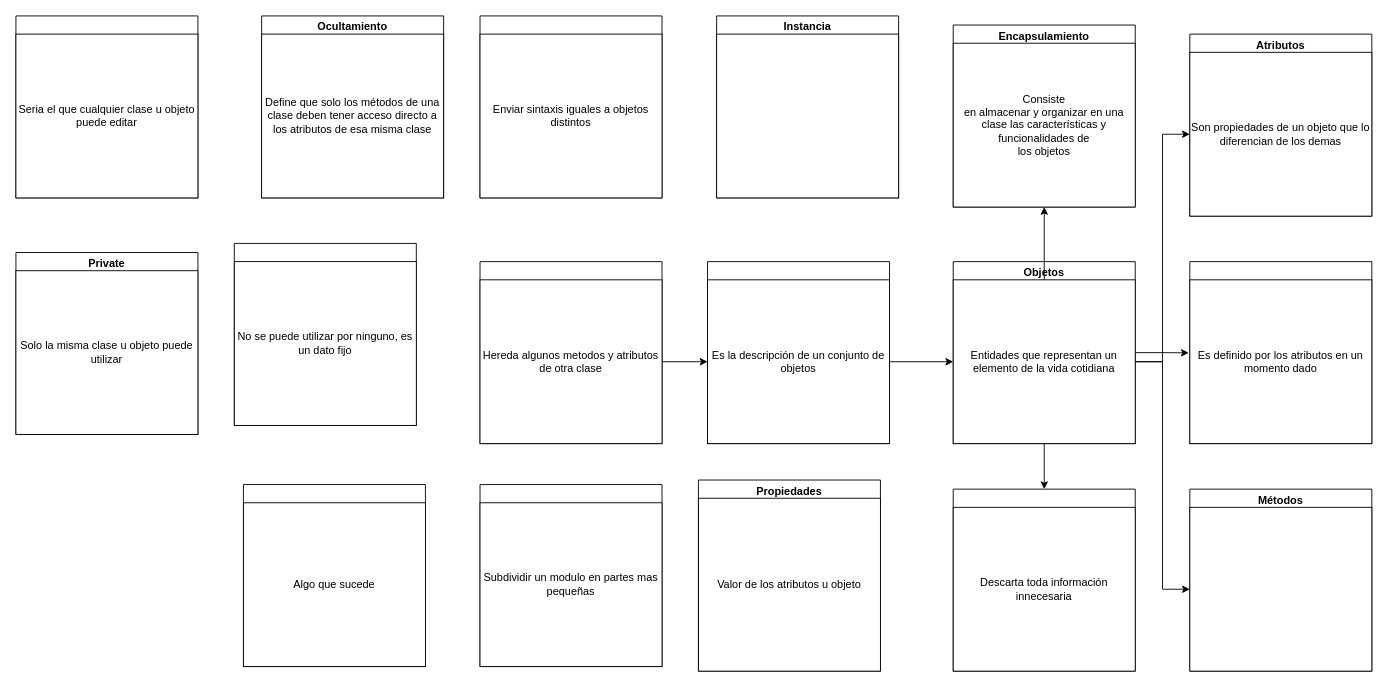
This 1388x687 diagram has some shape labels left out. Here are the shapes that lost their labels. From the top down, the box of each, then its label:
(15, 15, 198, 198): Public
(479, 15, 662, 198): Polimorfismo
(716, 33, 899, 198): Darle un valor a un objeto
(233, 243, 416, 425): Protected
(479, 261, 662, 444): Herencia
(707, 261, 890, 444): Clase
(1189, 261, 1372, 444): Estado
(243, 484, 425, 667): Eventos
(479, 484, 662, 667): Modularidad
(952, 488, 1135, 671): Abstraccion
(1189, 506, 1372, 671): Operaciones que se pueden realizar con el objeto
